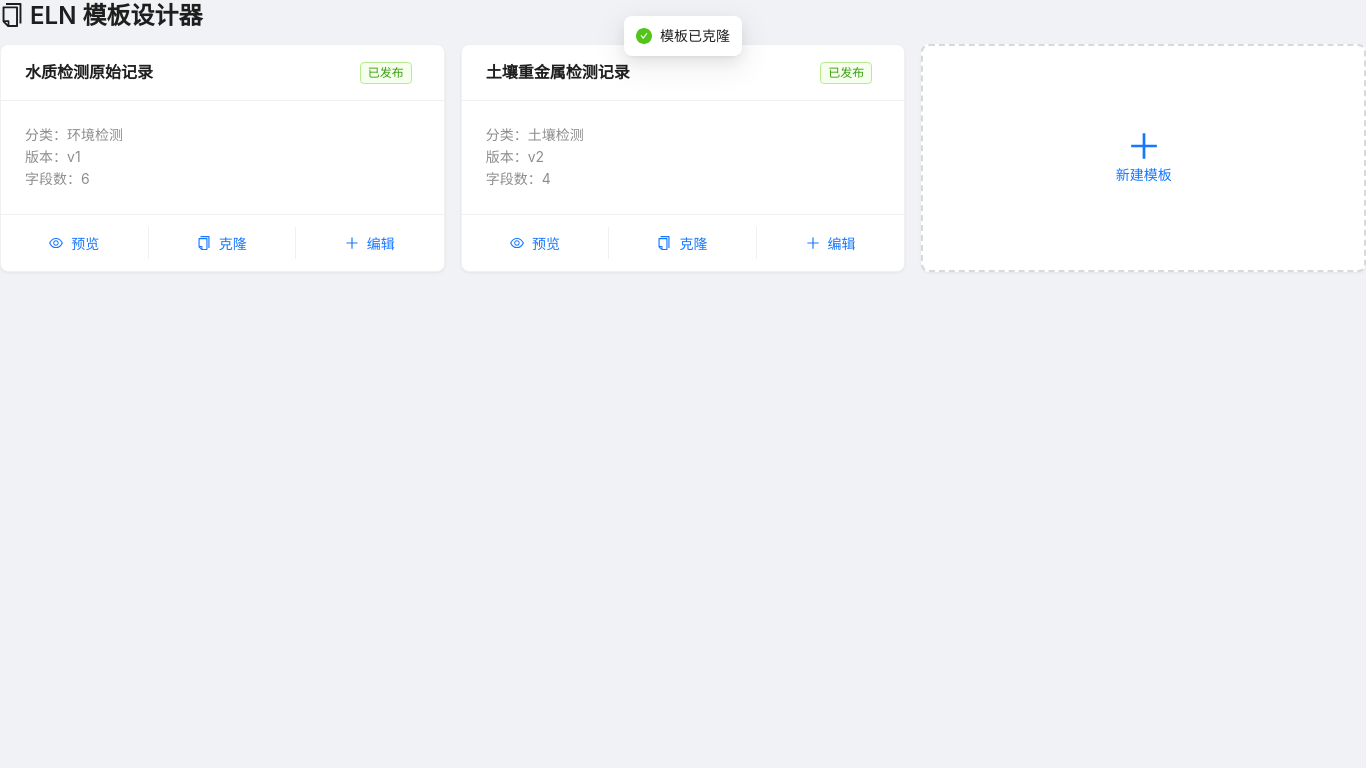
Scenario: TemplateDesignerPage › opens preview modal
Click the button "预览" below "环境检测": coordinates (74, 243) [33,227,115,259]
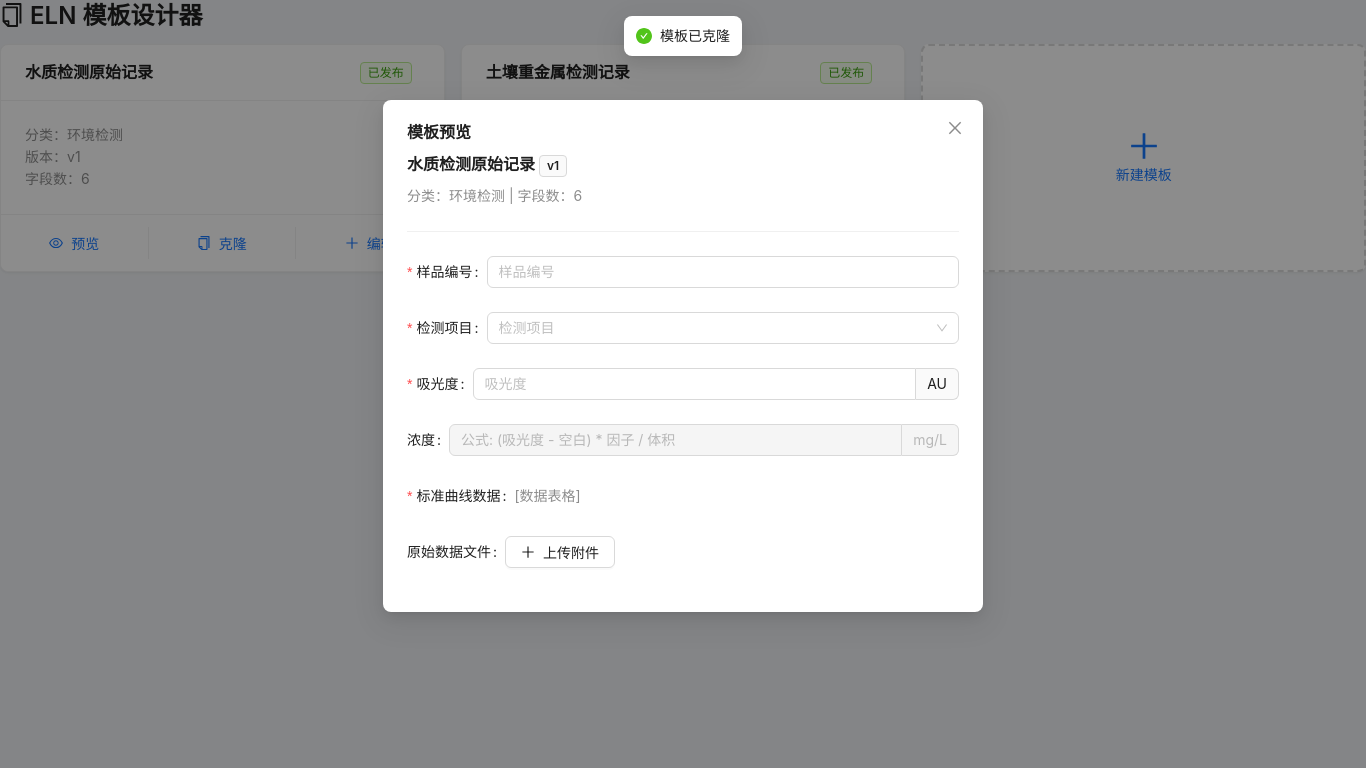
Expected: the text "模板预览" is shown, [407,122,471,142]
Expected: the text "样品编号" is shown, [407,256,486,288]
